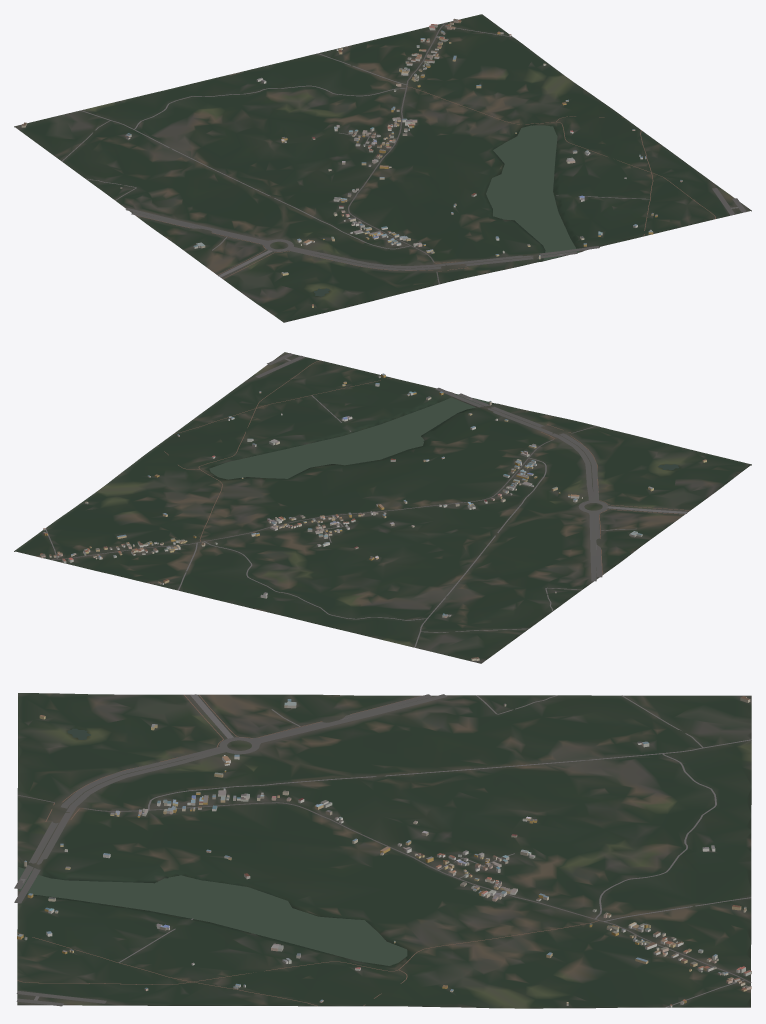
3 views of the same model, one above another, from view 1: azimuth 30°, elevation 25°; view 2: azimuth 150°, elevation 25°; view 3: azimuth 270°, elevation 25° (orthographic). The views are drawn at different scales.
Parts seen in each view (by area): view 1: ground, water, roads, buildings; view 2: ground, water, roads, buildings; view 3: ground, water, roads, buildings.
Boxes of the visible parts, x1,y1,x2,y2 form: ground: (14,14,751,322); water: (314,125,579,296); roads: (61,22,746,284); buildings: (21,18,682,307); ground: (14,352,751,663); water: (209,394,679,479); roads: (45,353,688,647); buildings: (40,373,706,660); ground: (17,693,751,1008); water: (18,728,407,965); roads: (14,694,751,1007); buildings: (17,696,751,1007).
Bounding box in the file's own units: 1411 × 21.14 × 1410.
